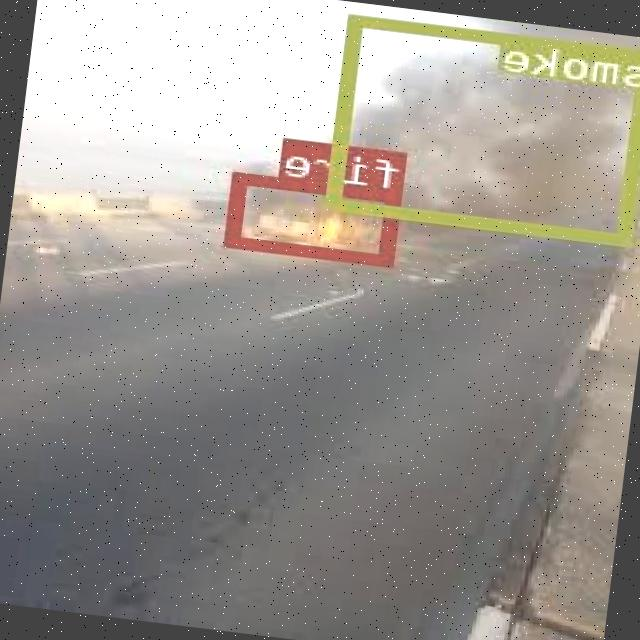fire: (228, 170, 404, 264)
smoke: (327, 12, 640, 245)
